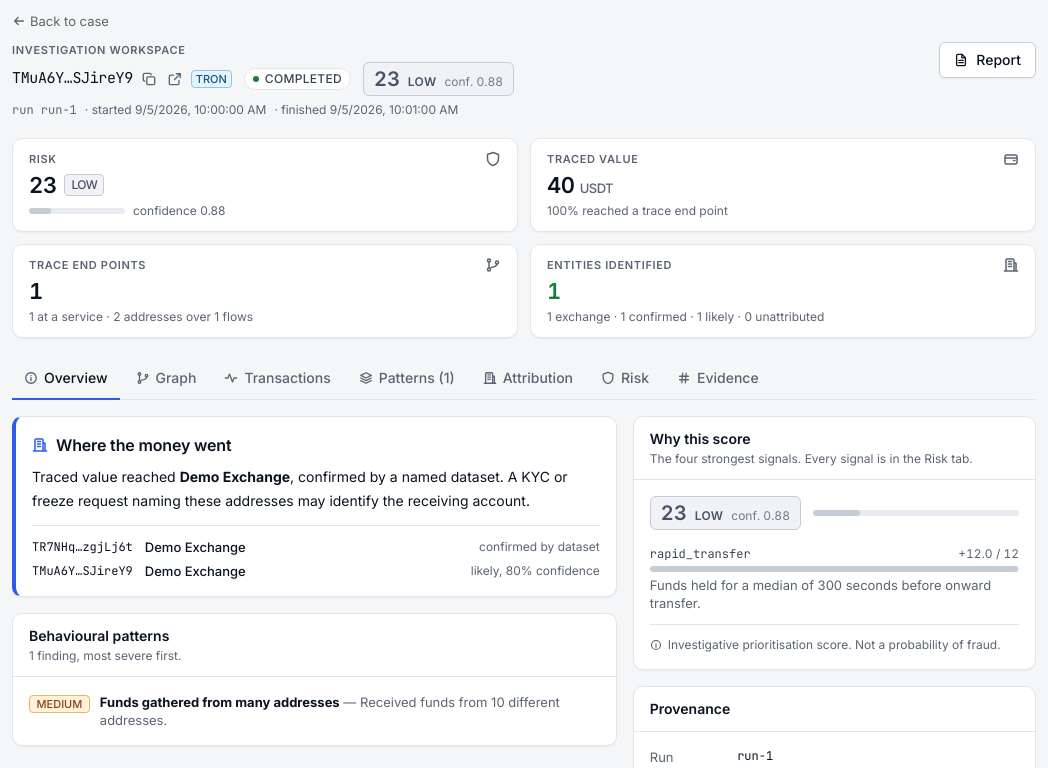
the freeze request › still offers a letter when no service could be named
Expected: the heading "Where the money went" is shown, [32, 435, 232, 455]
Click the tab "Evidence".
click(718, 379)  # box [665, 358, 771, 400]
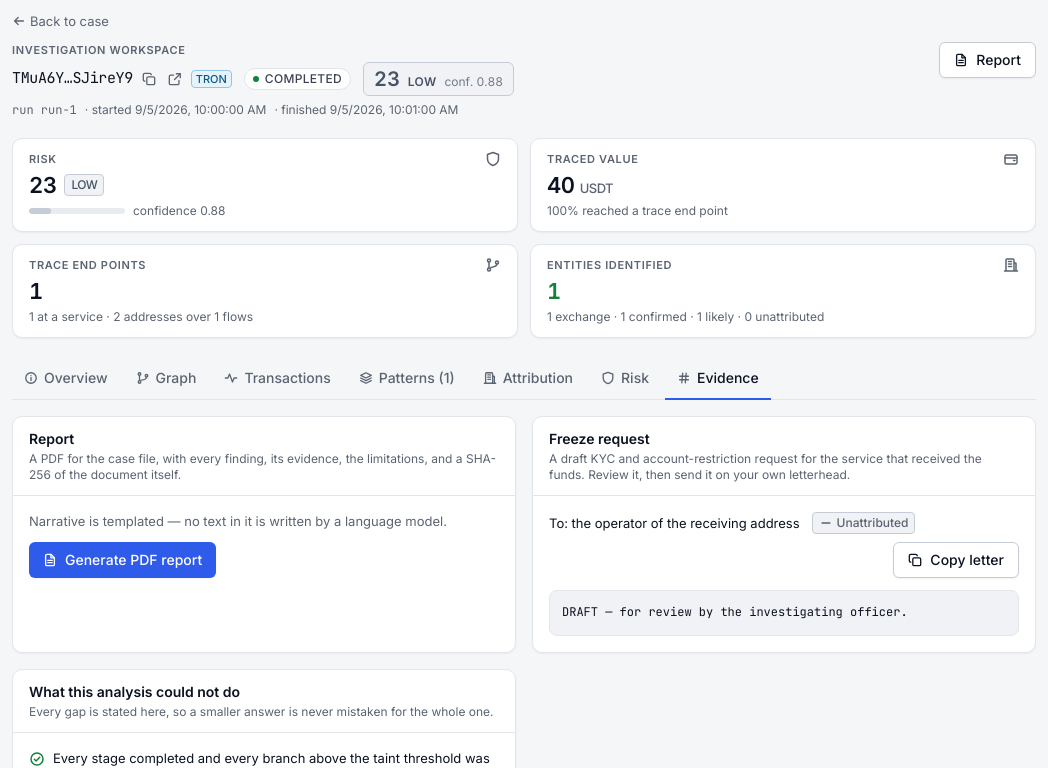
Expected: the text "To: the operator of the receiving address" is shown, [549, 514, 800, 532]
